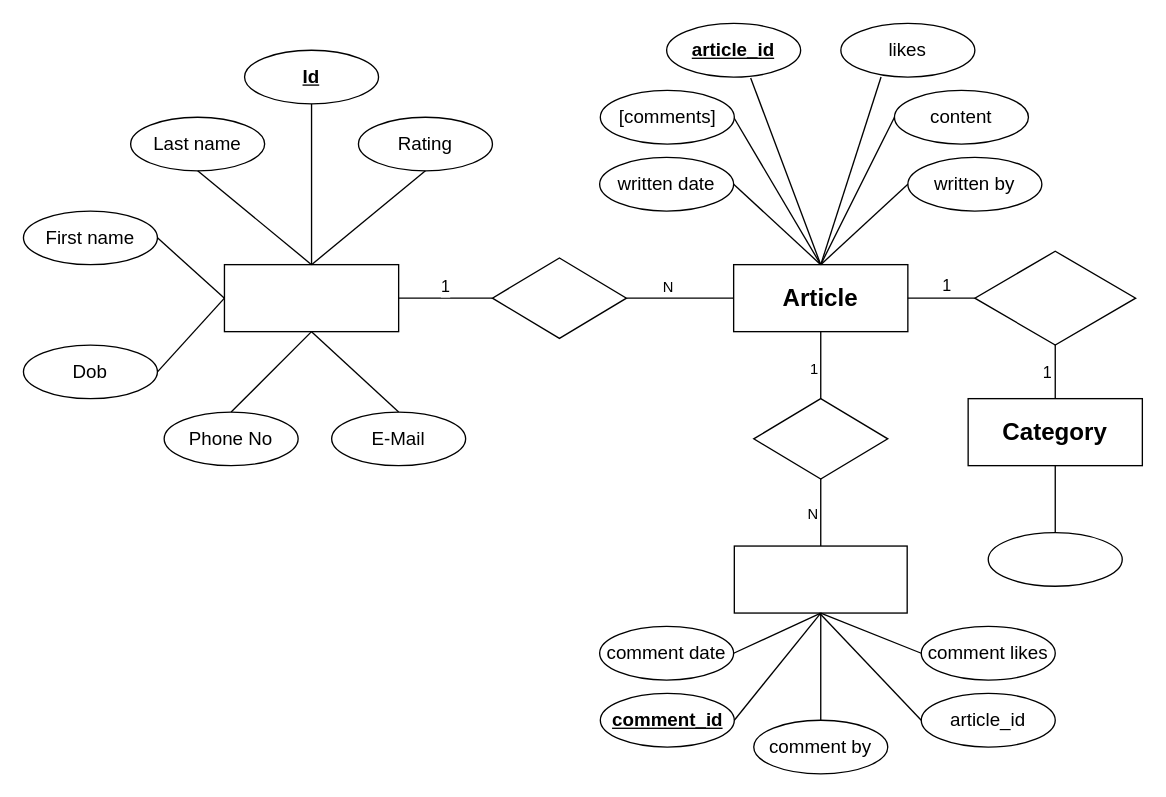
Image size: 1166x797. Some labels were removed from this diagram. Here are the shapes that lost their labels. From the top down, the centre of each, then its label:
the point at 311,297: User
the point at 558,297: Writes
the point at 1055,297: Categorized_in
the point at 820,438: has
the point at 1054,558: Name
the point at 820,579: Comments
